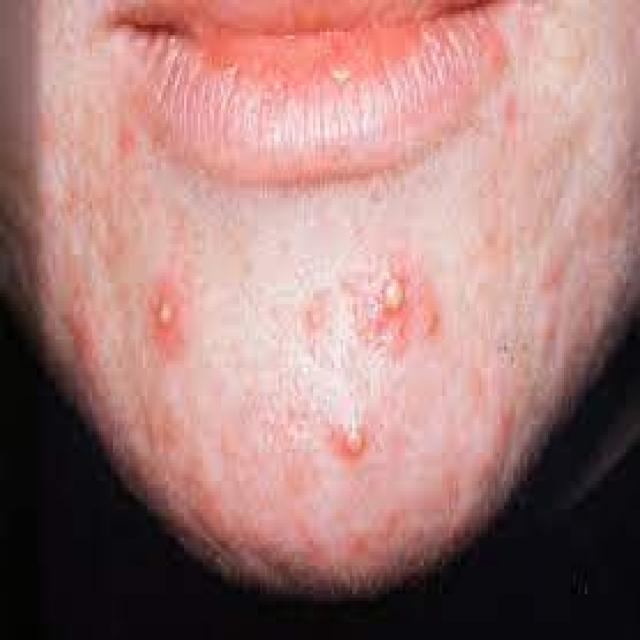Acne: (362, 252, 421, 345), (59, 290, 105, 368), (148, 274, 188, 356), (328, 412, 382, 464), (493, 399, 516, 452), (304, 300, 328, 336), (419, 305, 442, 339), (115, 122, 137, 155)
